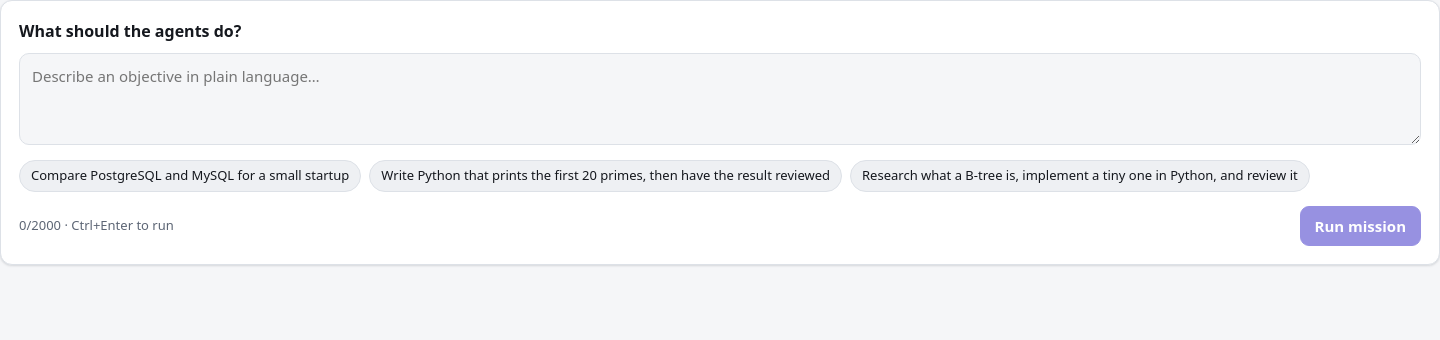
Test case: NewMissionForm › shows the API's message and lets the user try again
In the text box labelled "What should the agents do?": (720, 99) [19, 53, 1421, 144], type "go"
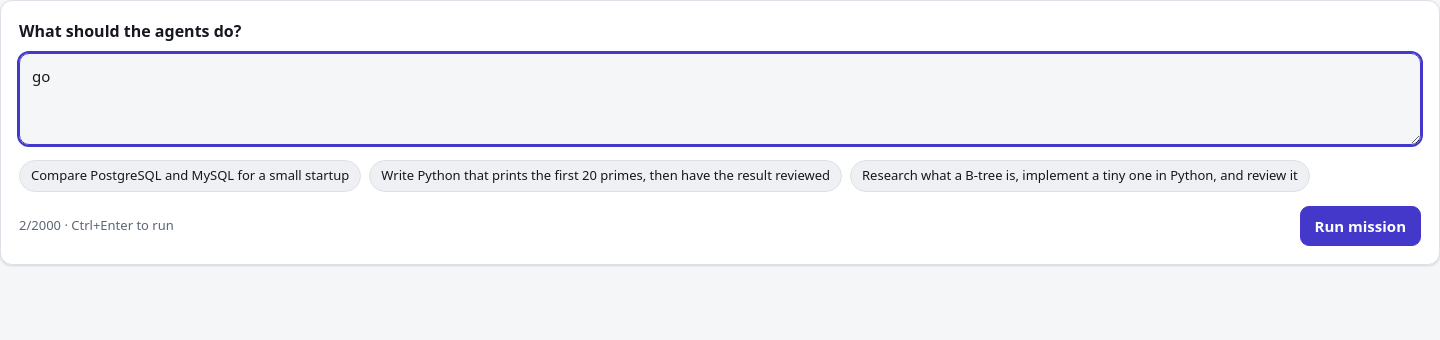
Click the button "Run mission": (1360, 226) [1300, 206, 1421, 246]
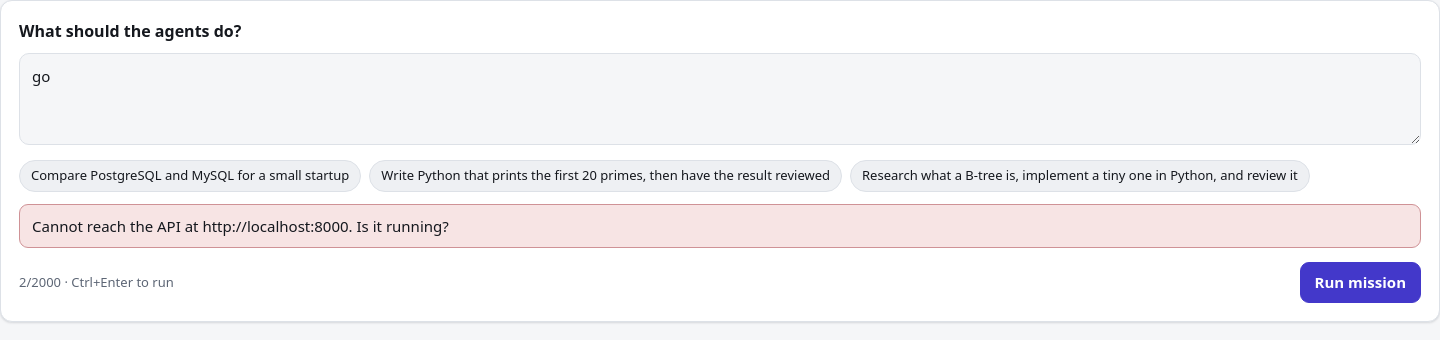
Now the button "Run mission" is enabled, box [1300, 262, 1421, 302]
Now the message shows "Cannot reach the API", box [32, 216, 449, 236]
